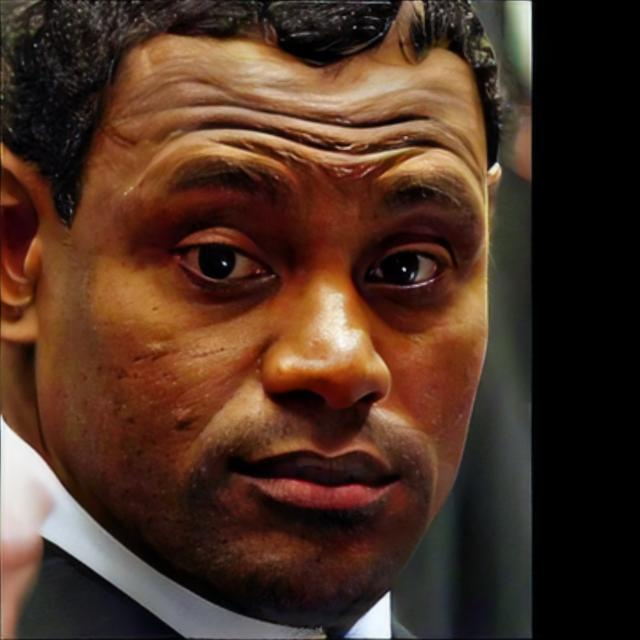surprise: (46, 24, 489, 616)
